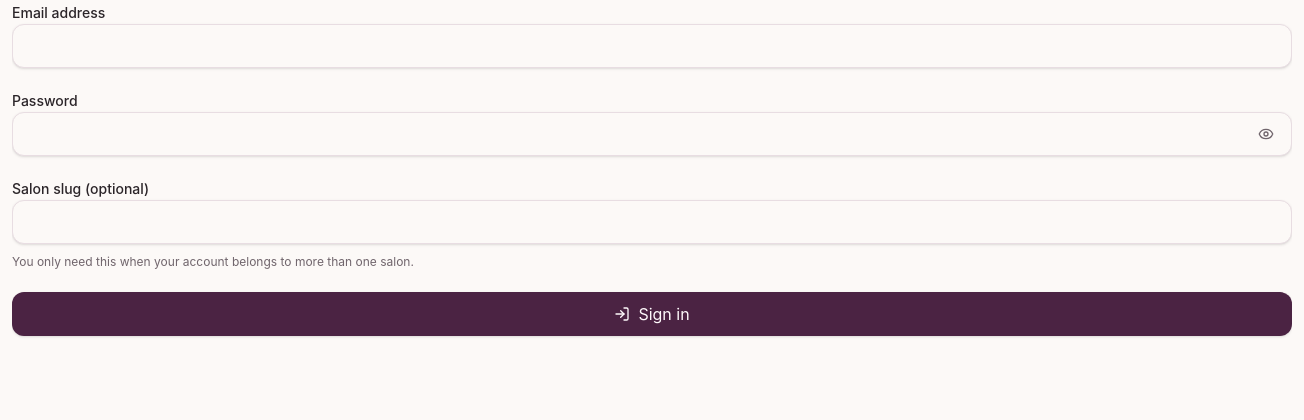
Test: LoginForm › shows a safe message for invalid credentials
Type "owner@example.com" into the field labelled "Email address". click: coordinates (652, 46)
box: [12, 24, 1292, 68]
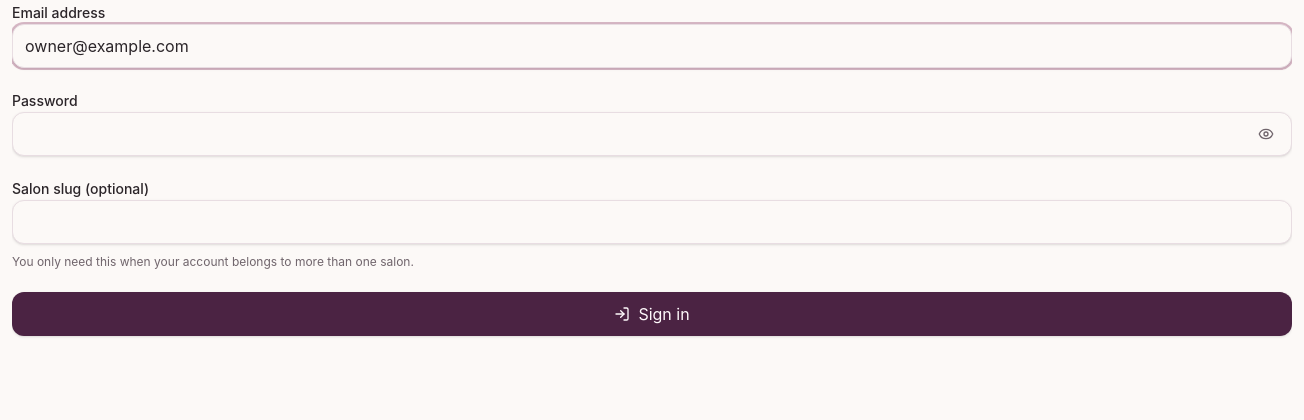
Type "wrong" into the password field labelled "Password". click: coordinates (652, 134)
box: [12, 112, 1292, 156]
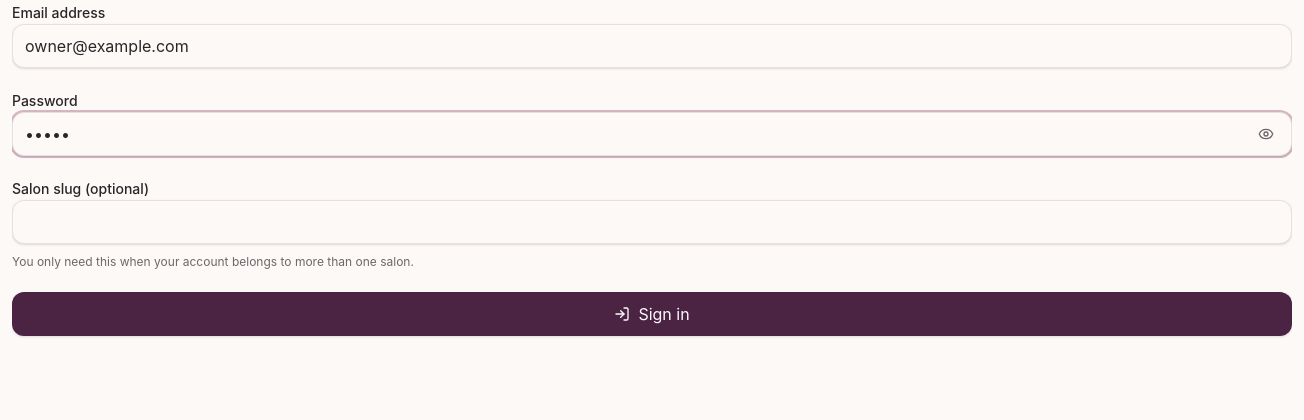
Click the button "Sign in". click: coordinates (652, 314)
box: [12, 292, 1292, 336]
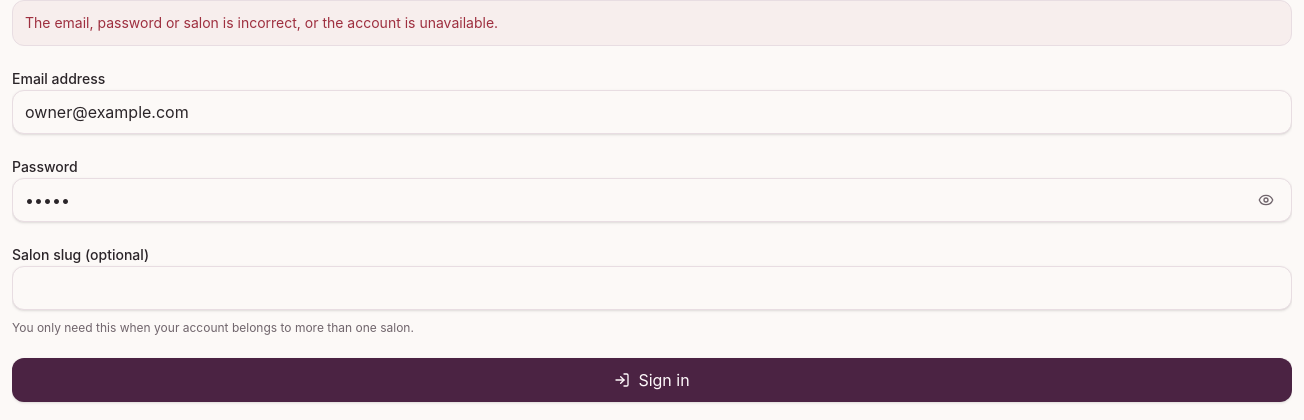
Expected: the text "The email, password or salon is incorrect, or the account is unavailable." is shown, [12, 0, 1292, 46]
